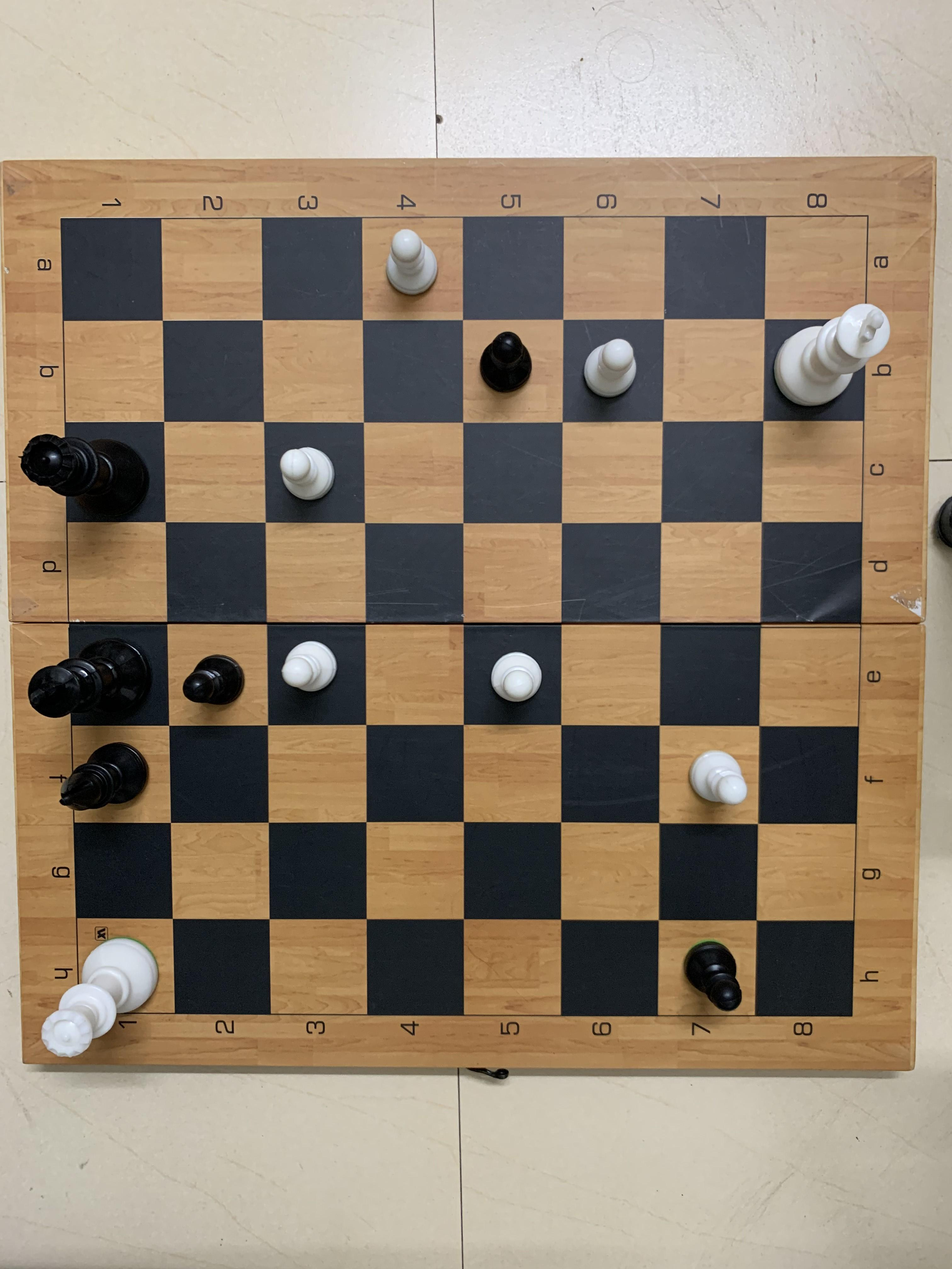black_bishop: (52, 743, 157, 820)
black_king: (28, 631, 164, 734)
black_pawn: (676, 936, 760, 1025), (473, 320, 535, 404), (184, 655, 250, 722)
black_queen: (17, 427, 158, 534)
white_king: (756, 297, 895, 412)
white_pawn: (272, 630, 349, 711), (685, 738, 761, 813), (576, 331, 645, 410), (481, 642, 547, 722), (380, 229, 449, 305), (270, 444, 339, 508)
white_queen: (36, 924, 163, 1057)
